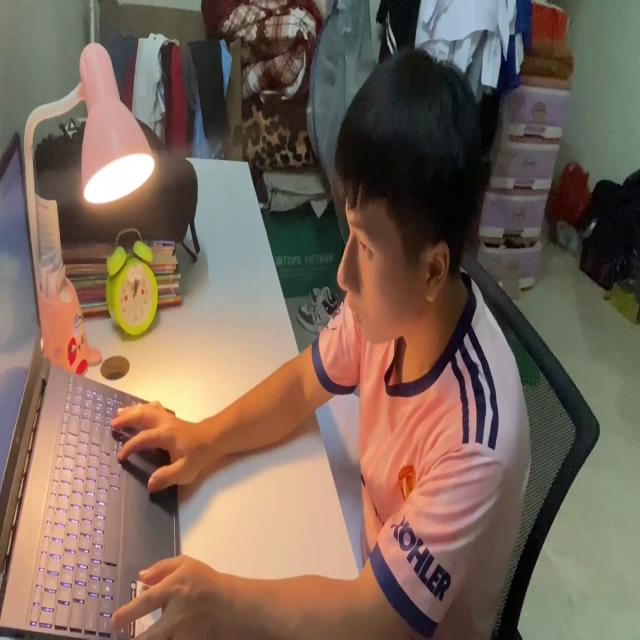book: (315, 382, 365, 589)
laptop: (0, 129, 186, 640)
student: (103, 33, 527, 640)
